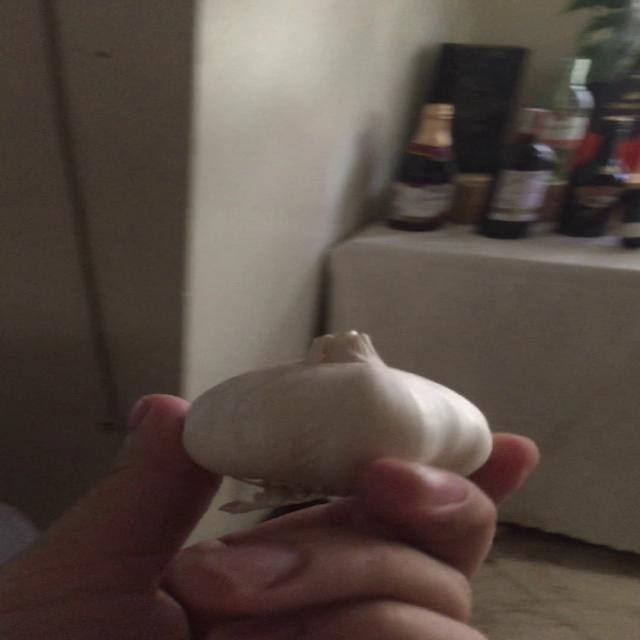garlic: (179, 328, 496, 525)
